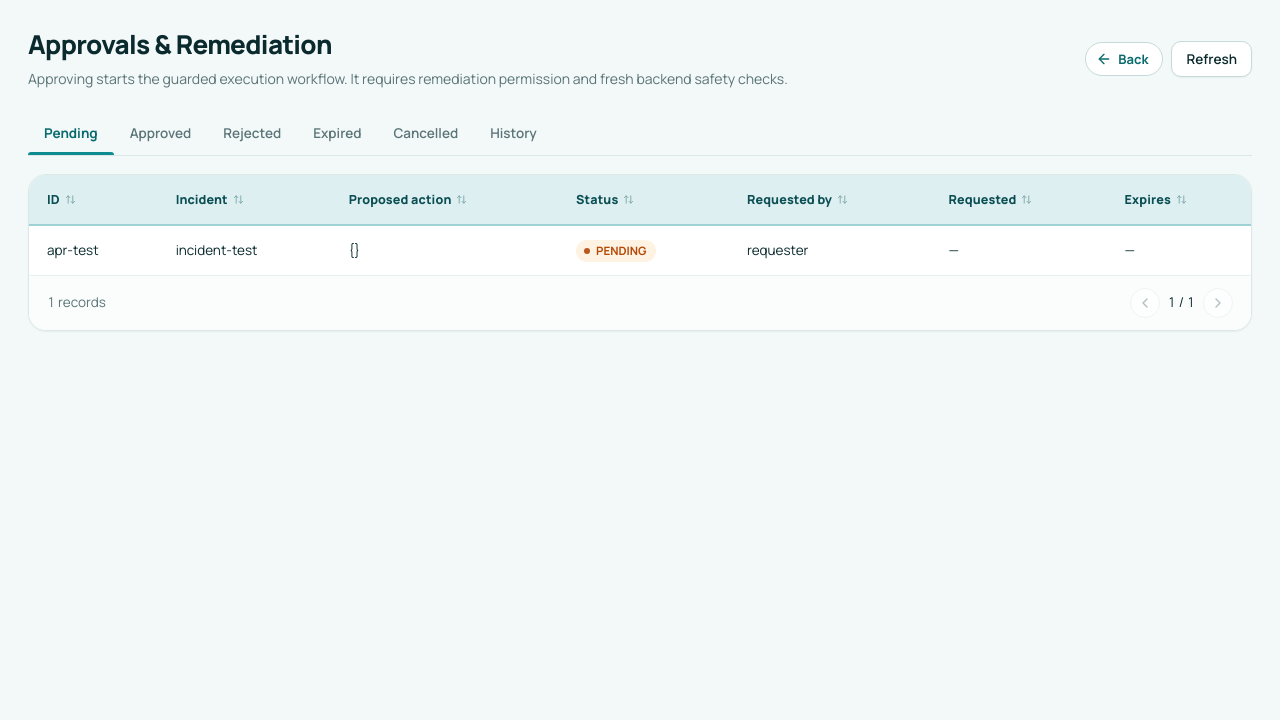
Test: operator authentication UI › shows approval records but no decision controls to read-only operators
Click the text "apr-test" at (93, 250), box x1=29 y1=225 x2=158 y2=275
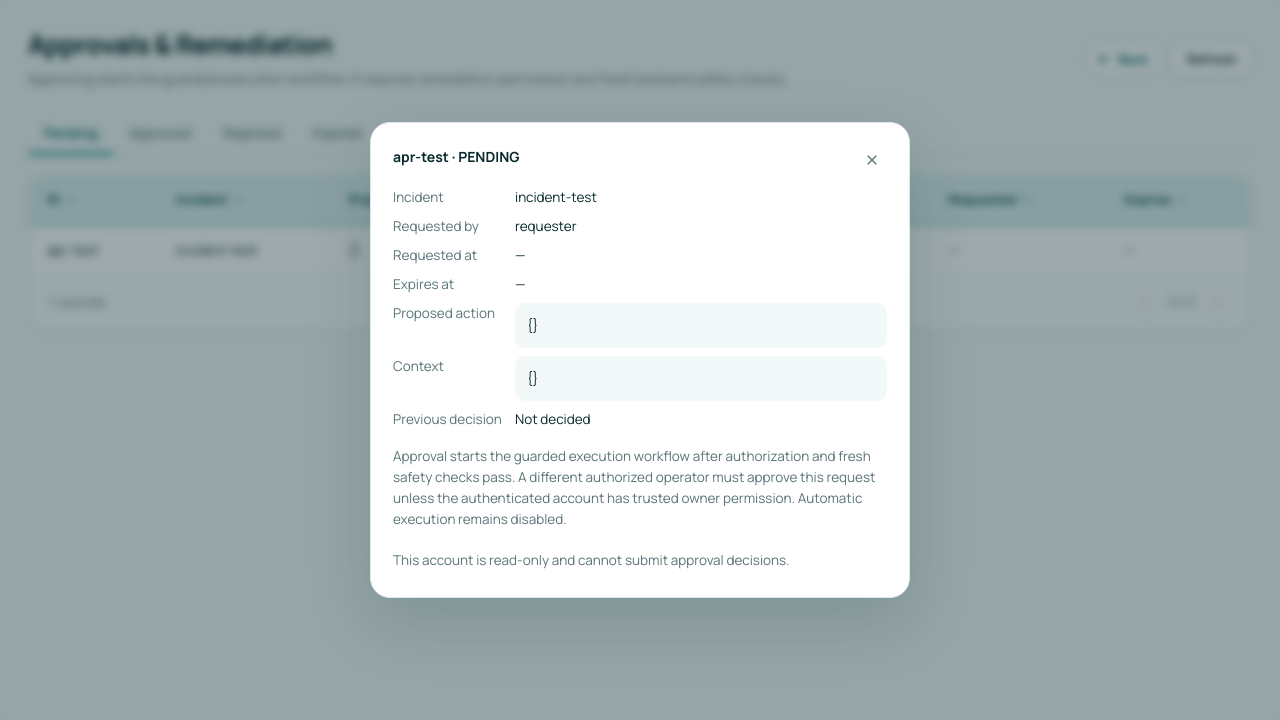
Check: the dialog is shown, box x1=370 y1=122 x2=910 y2=598
Check: the text "This account is read-only and cannot submit approval decisions." is shown, box x1=393 y1=551 x2=790 y2=569
